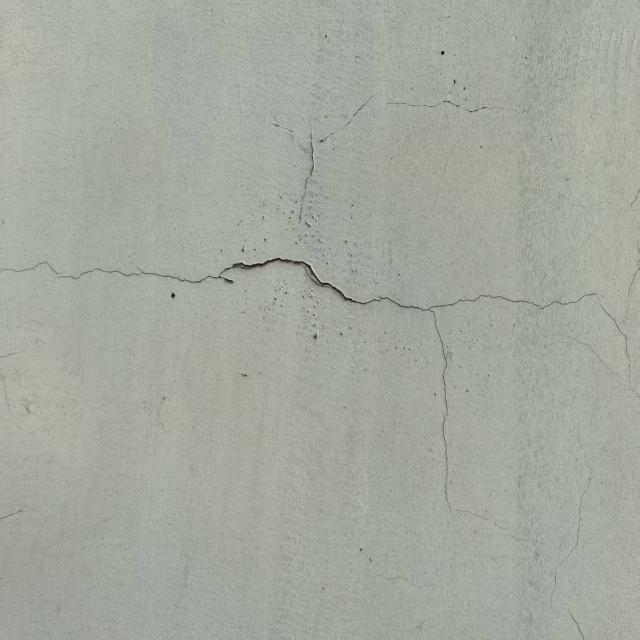crack: (2, 247, 633, 516)
